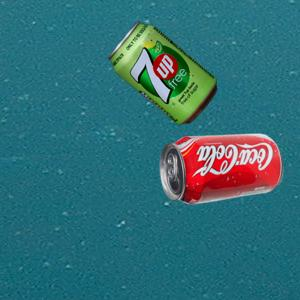can: (107, 24, 219, 126), (157, 131, 283, 205)
